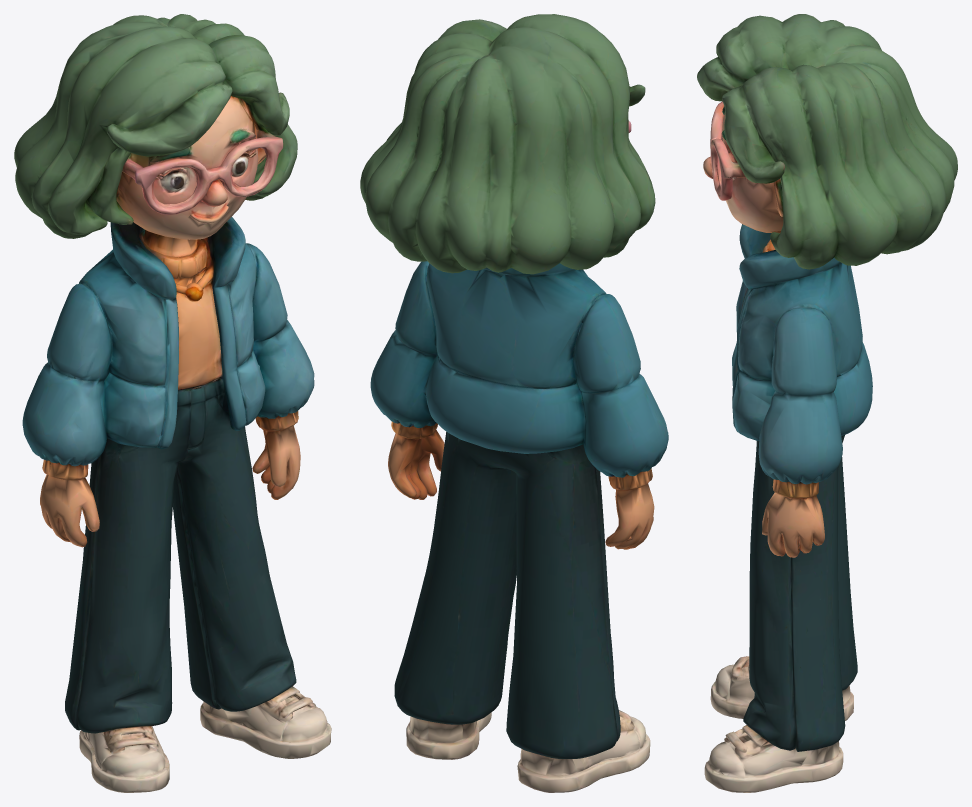
Rendered from lumi-unrigged.glb.
The picture shows the model from 3 angles, left to right: view 1: azimuth 30°, elevation 25°; view 2: azimuth 150°, elevation 25°; view 3: azimuth 270°, elevation 25°; orthographic projection. The views are drawn at different scales.
Visible parts, largest first — view 1: node_0; view 2: node_0; view 3: node_0.
Part boxes in pixels (<box>): node_0: <box>14,14,331,792</box>; node_0: <box>360,14,668,792</box>; node_0: <box>697,14,957,792</box>.
Bounding box in the file's own units: 0.4439 × 1.11 × 0.371.
1 material, 1 textured.
